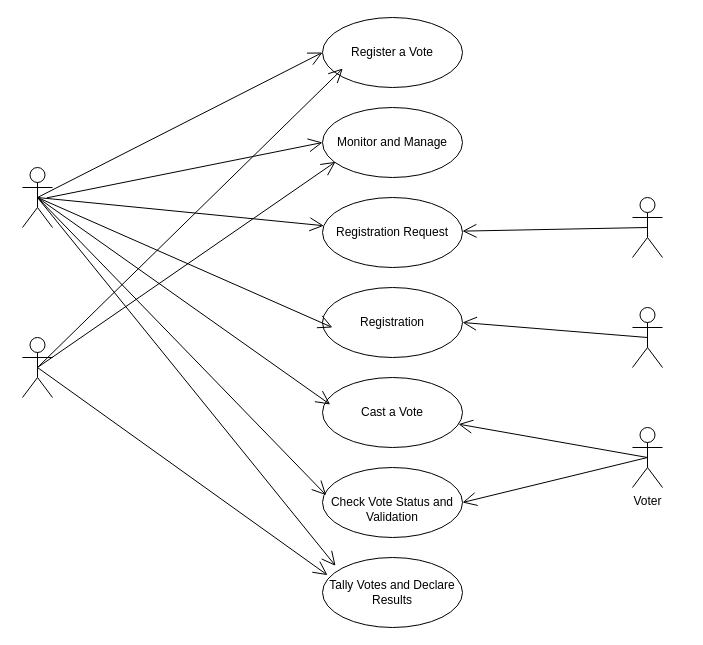
This 703x645 diagram has some shape labels left out. Each missing label, with the centre of its shape:
"Admin" belongs at point 37,367.
"Candidate" belongs at point 647,337.
"Potential Voter" belongs at point 647,227.
"System" belongs at point 37,197.
